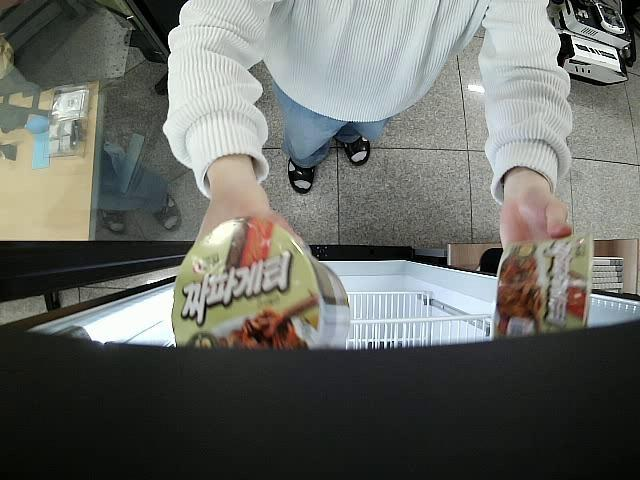03_chapagetti_L: (170, 216, 353, 348), (495, 240, 594, 338)
